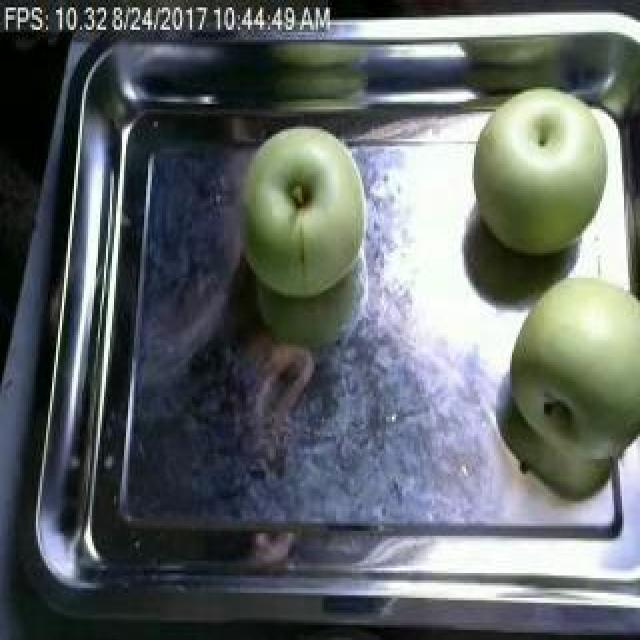Rotten Apple: (510, 267, 640, 470), (464, 99, 628, 246), (234, 124, 358, 298)
